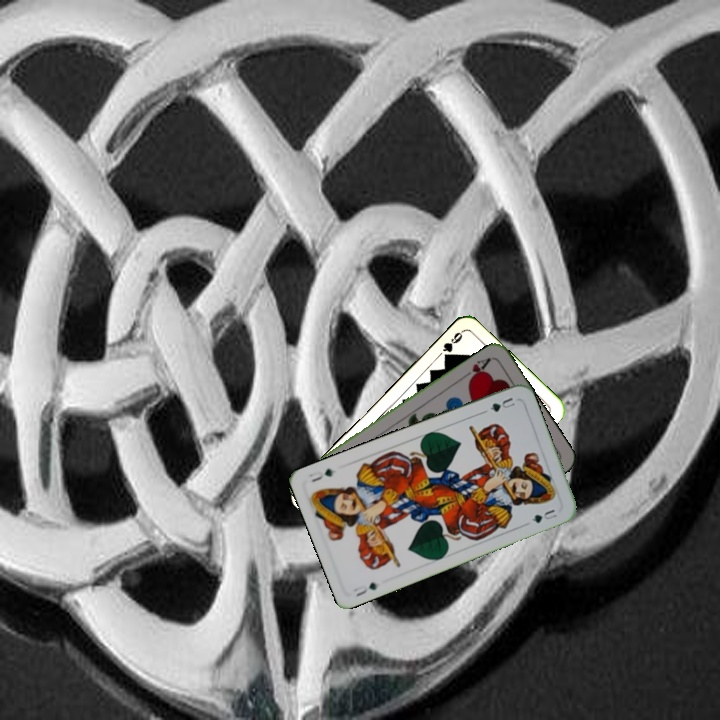G9: (434, 327, 465, 360)
GU: (486, 393, 518, 415), (350, 578, 380, 599)
HA: (458, 353, 493, 385)
